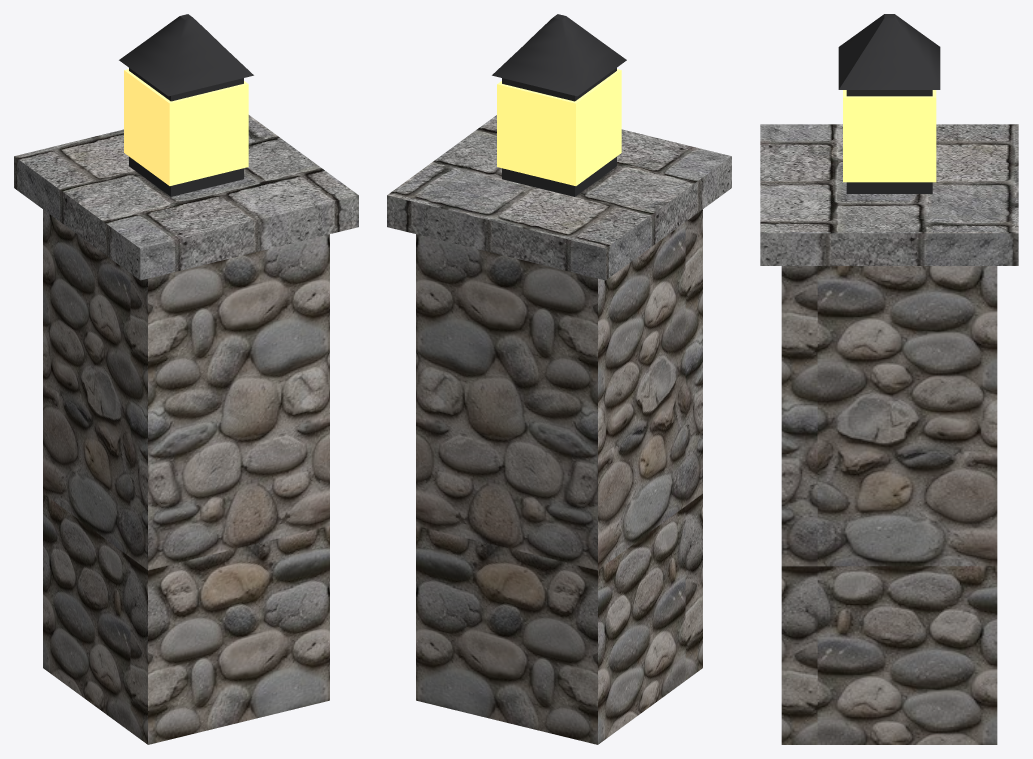
Rendered from farol.glb.
3 renders of one model, left to right at view 1: azimuth 30°, elevation 25°; view 2: azimuth 150°, elevation 25°; view 3: azimuth 270°, elevation 25°, orthographic. The views are drawn at different scales.
Parts seen in each view (by area): view 1: pieza; view 2: pieza; view 3: pieza.
Part boxes in pixels (x1=…): pieza: x1=14, y1=14, x2=358, y2=744; pieza: x1=387, y1=14, x2=731, y2=744; pieza: x1=760, y1=14, x2=1018, y2=744.
Bounding box in the file's own units: 0.72 × 2.1 × 0.72.
4 materials, 2 textured.
